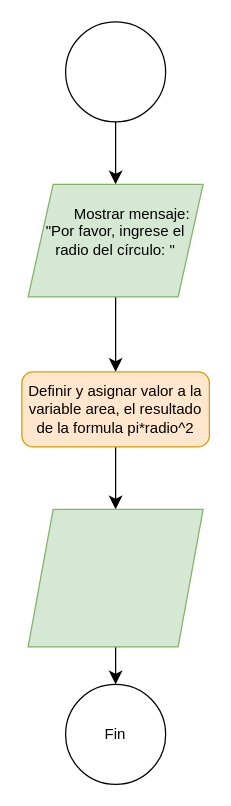
This 231x806 diagram has some shape labels left out. The shapes that lost their labels are listed below. From the top down, each one's box as (x1, y1, x2, y2) in pixels, then its label:
(64, 21, 166, 122): Inicio
(27, 508, 203, 647): Mostrar mensaje: "El área del círculo con radio", radio, "es:", area
